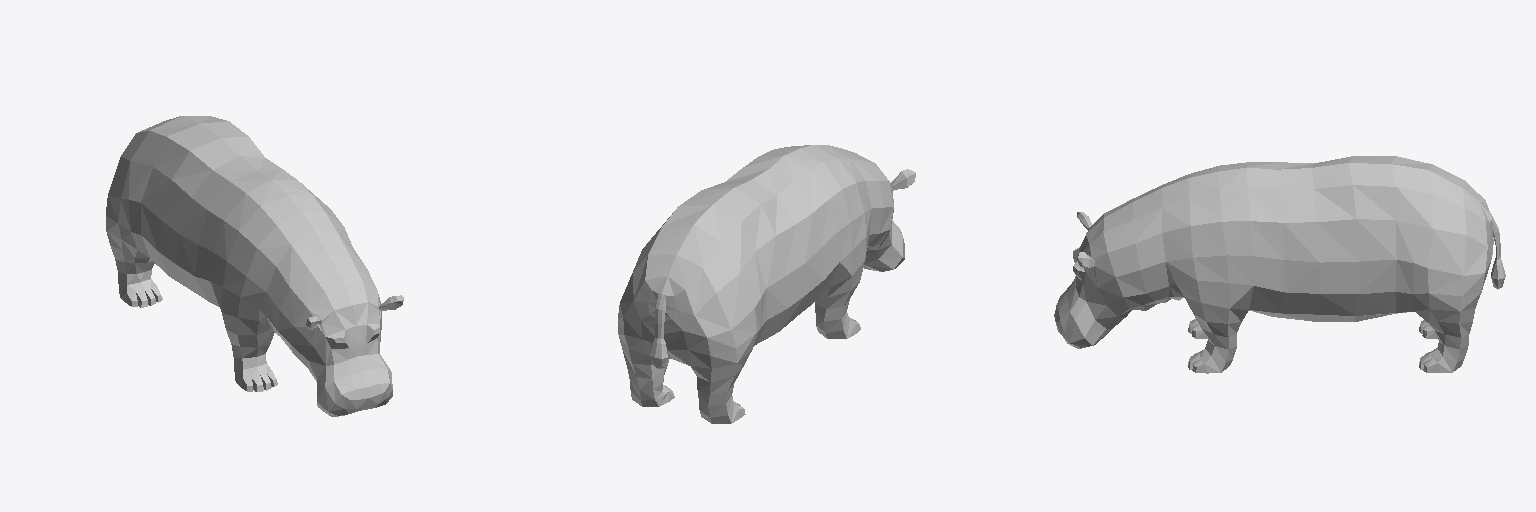
The model's file is Hippopotamus.obj.
The picture shows the model from 3 angles: view 1: azimuth 30°, elevation 25°; view 2: azimuth 150°, elevation 25°; view 3: azimuth 270°, elevation 25°; orthographic projection.
Visible parts, largest first — view 1: Hippopotamus_Mesh; view 2: Hippopotamus_Mesh; view 3: Hippopotamus_Mesh.
Boxes of the visible parts, x1=… form: Hippopotamus_Mesh: x1=106, y1=116, x2=403, y2=416; Hippopotamus_Mesh: x1=618, y1=145, x2=915, y2=423; Hippopotamus_Mesh: x1=1054, y1=156, x2=1505, y2=373.
Bounding box in the file's own units: 5.53 × 7.75 × 17.05.